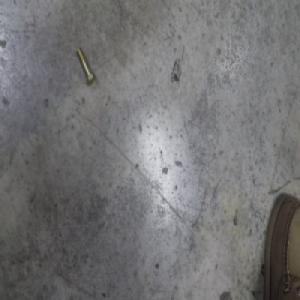Bolt: (75, 45, 95, 87)
